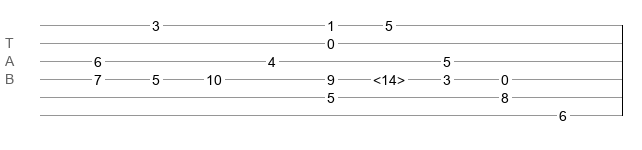0: (327, 36, 335, 46), (501, 72, 509, 82)
1: (327, 18, 335, 28)
10: (206, 72, 222, 82)
3: (152, 18, 160, 28), (443, 72, 451, 82)
4: (268, 54, 276, 64)
5: (152, 72, 160, 82), (327, 90, 335, 100), (385, 18, 393, 28), (443, 54, 451, 64)
6: (94, 54, 102, 64), (559, 108, 567, 118)
7: (94, 72, 102, 82)
8: (501, 90, 509, 100)
9: (327, 72, 335, 82)
harmonic: (373, 72, 405, 82)
